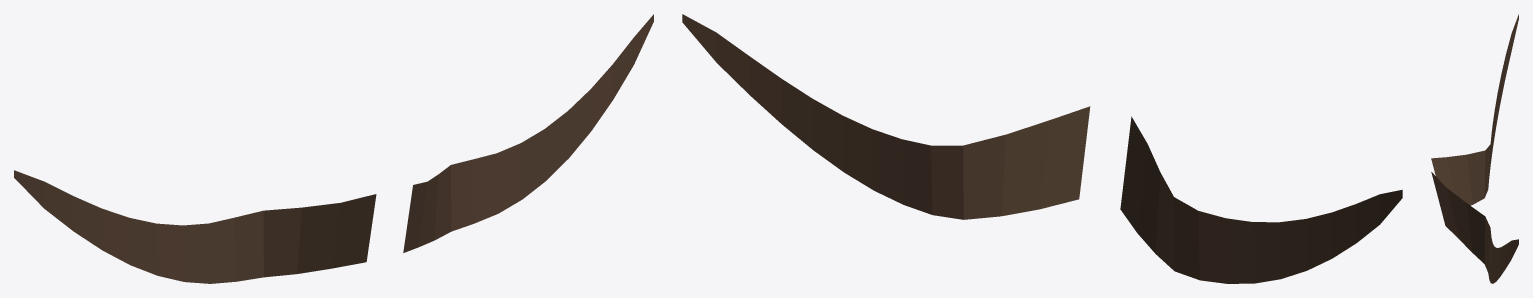
Rendered from facial-mustache.glb.
The picture shows the model from 3 angles, left to right: view 1: azimuth 30°, elevation 25°; view 2: azimuth 150°, elevation 25°; view 3: azimuth 270°, elevation 25°; orthographic projection. The views are drawn at different scales.
Parts seen in each view (by area): view 1: facial-mustache_ref2_facial-mustache__head_mesh; view 2: facial-mustache_ref2_facial-mustache__head_mesh; view 3: facial-mustache_ref2_facial-mustache__head_mesh.
Boxes of the visible parts, x1,y1,x2,y2 form: facial-mustache_ref2_facial-mustache__head_mesh: (14,14,653,283); facial-mustache_ref2_facial-mustache__head_mesh: (682,14,1402,283); facial-mustache_ref2_facial-mustache__head_mesh: (1431,14,1518,283).
Size of the model in its own units: 0.1596 by 0.0346 by 0.0263.
